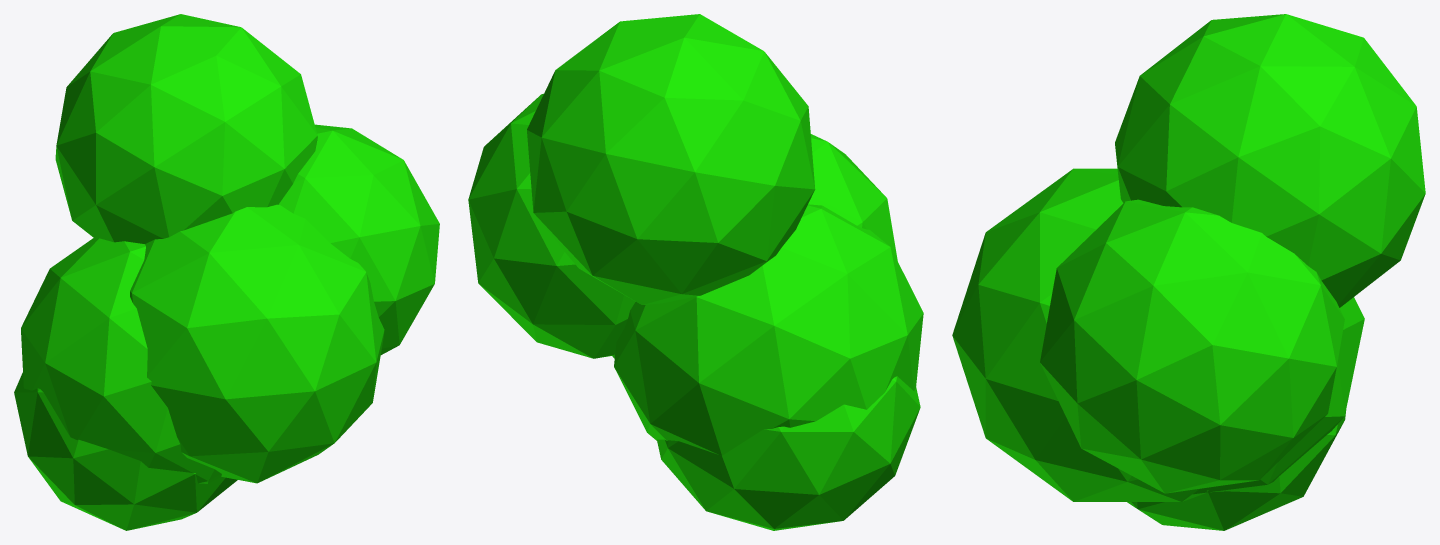
File: bush 5.fbx
3 renders of one model, left to right at view 1: azimuth 30°, elevation 25°; view 2: azimuth 150°, elevation 25°; view 3: azimuth 270°, elevation 25°, orthographic. The views are drawn at different scales.
Parts seen in each view (by area): view 1: Icosphere.004; view 2: Icosphere.004; view 3: Icosphere.004.
Part boxes in pixels (x1=…): Icosphere.004: x1=14, y1=14, x2=439, y2=530; Icosphere.004: x1=468, y1=14, x2=923, y2=530; Icosphere.004: x1=952, y1=14, x2=1425, y2=530.
Bounding box in the file's own units: 298 × 337 × 270.
